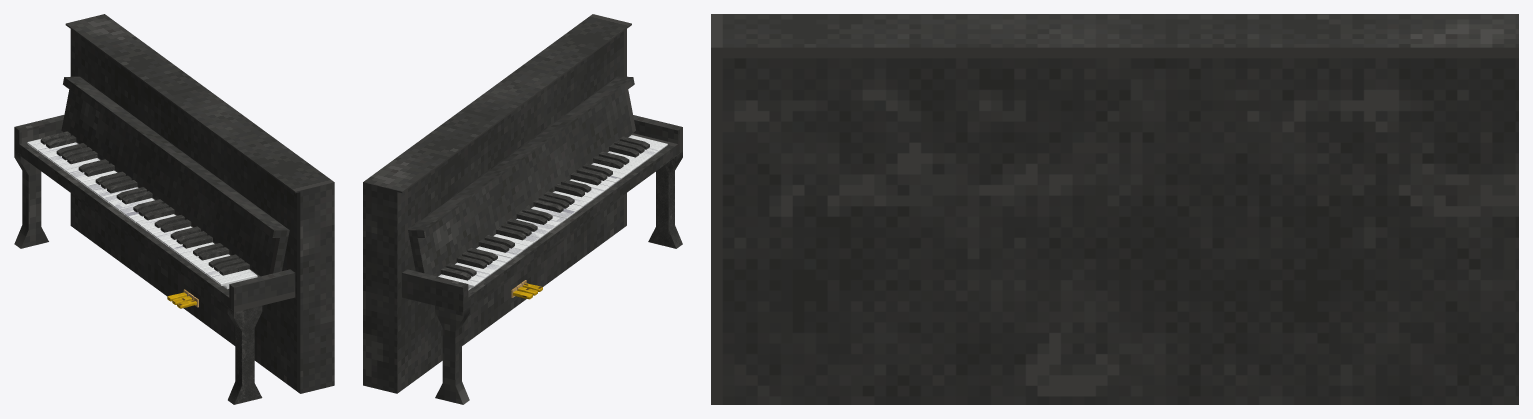
File: piano.fbx
3 views of the same model, side by side, from view 1: azimuth 30°, elevation 25°; view 2: azimuth 150°, elevation 25°; view 3: azimuth 270°, elevation 25° (orthographic). The views are drawn at different scales.
Visible parts, largest first — view 1: polySurface72.064; view 2: polySurface72.064; view 3: polySurface72.064.
Boxes of the visible parts, left/top/right/bottom form: polySurface72.064: left=14, top=14, right=334, bottom=404; polySurface72.064: left=363, top=14, right=682, bottom=404; polySurface72.064: left=711, top=14, right=1518, bottom=404.
Size of the model in its own units: 1.47 by 3 by 6.15.
4 materials, 4 textured.
